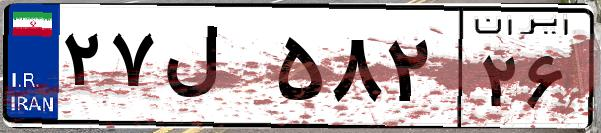2: (385, 28, 445, 110), (57, 26, 110, 100), (475, 38, 525, 113)
5: (270, 28, 330, 110)
6: (525, 38, 570, 115)
7: (110, 28, 158, 98)
8: (330, 28, 385, 110)
ل: (158, 20, 270, 120)
